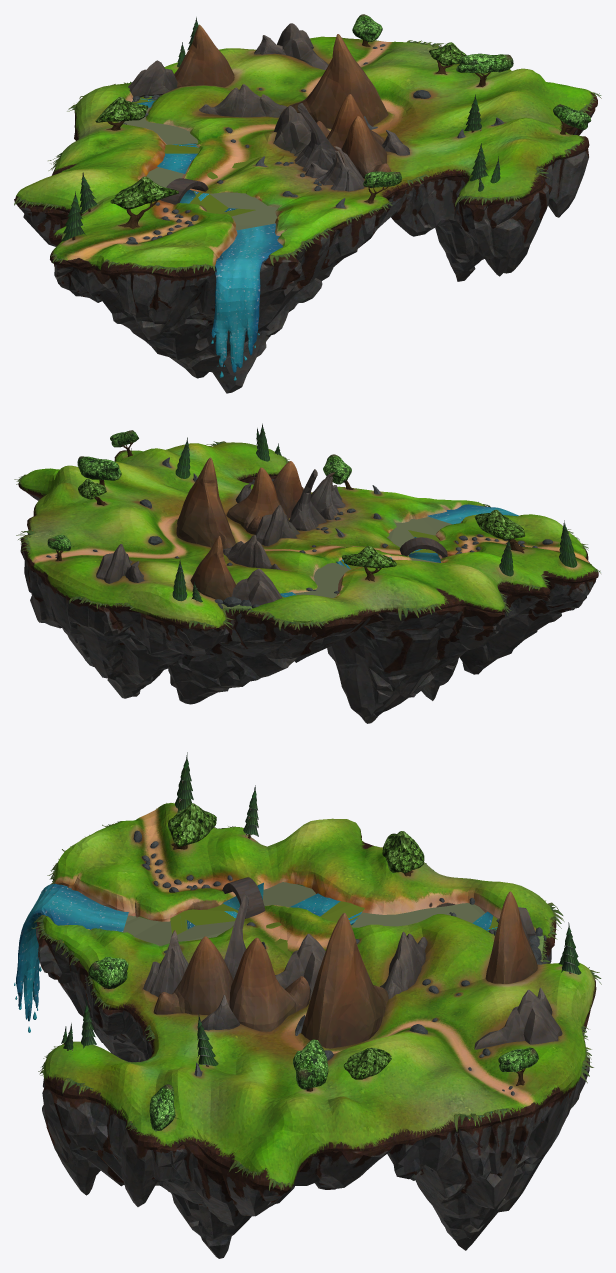
File: ilha.gltf
The picture shows the model from 3 angles, top to bottom: view 1: azimuth 30°, elevation 25°; view 2: azimuth 150°, elevation 25°; view 3: azimuth 270°, elevation 25°; orthographic projection. The views are drawn at different scales.
Bounding box in the file's own units: 0.7812 × 0.3385 × 0.5201.
3 materials, 3 textured.
